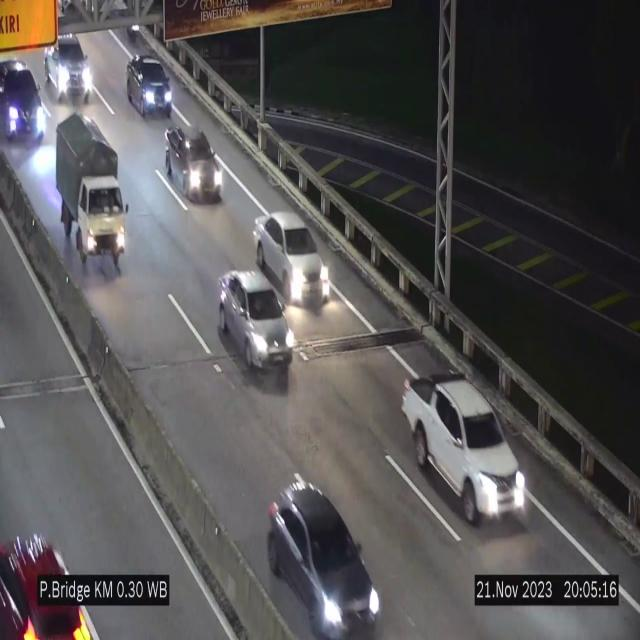Car: (402, 374, 529, 524), (267, 477, 380, 639), (254, 211, 333, 307), (219, 272, 293, 370), (164, 117, 228, 203), (0, 56, 47, 144), (44, 34, 94, 102), (126, 55, 172, 116)
Truck: (53, 110, 130, 268)
